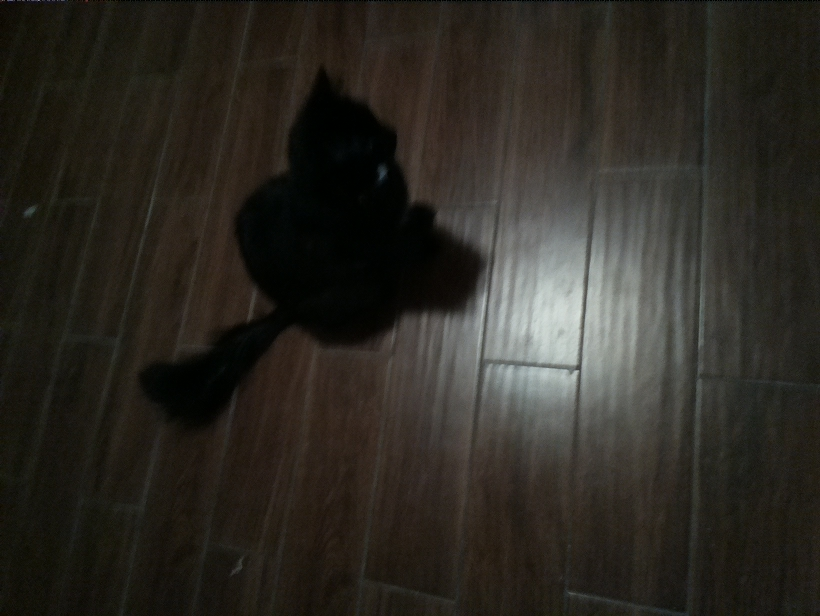cat: (127, 66, 485, 418)
